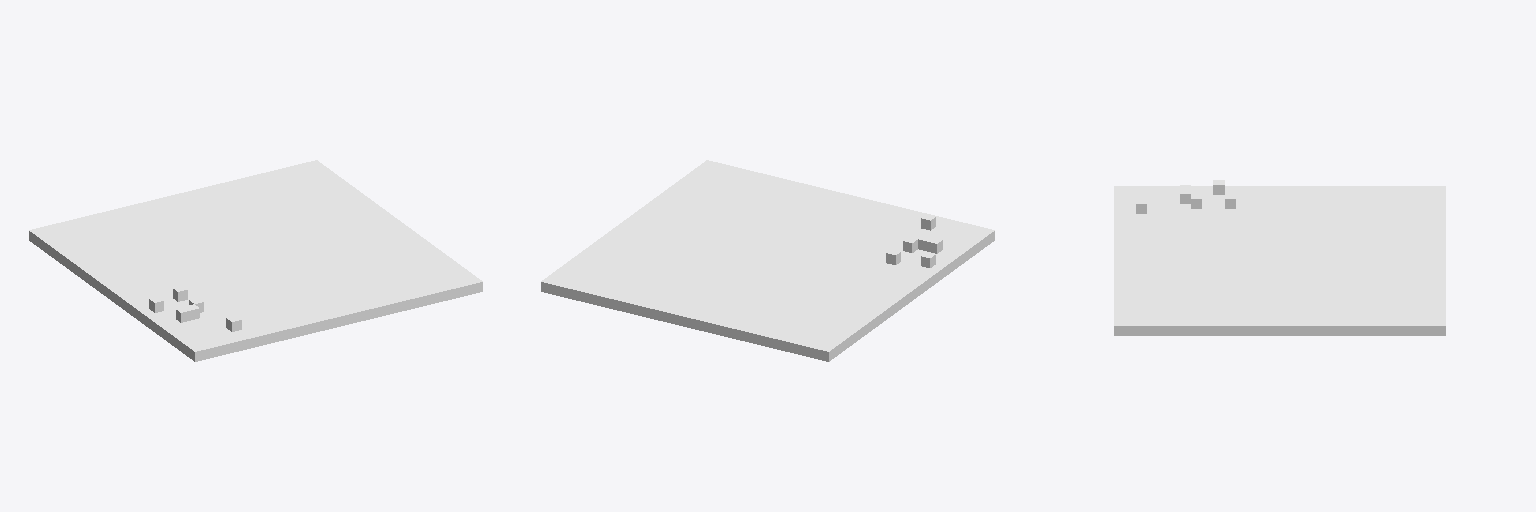
Rendered from lava_corner.obj.
3 views of the same model, side by side, from view 1: azimuth 30°, elevation 25°; view 2: azimuth 150°, elevation 25°; view 3: azimuth 270°, elevation 25° (orthographic).
Bounding box in the file's own units: 30 × 2 × 30.